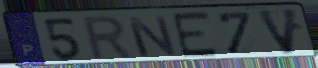5: (42, 16, 84, 64)
7: (215, 12, 256, 57)
E: (169, 10, 221, 60)
N: (124, 15, 180, 59)
R: (82, 14, 137, 63)
V: (254, 7, 301, 57)
